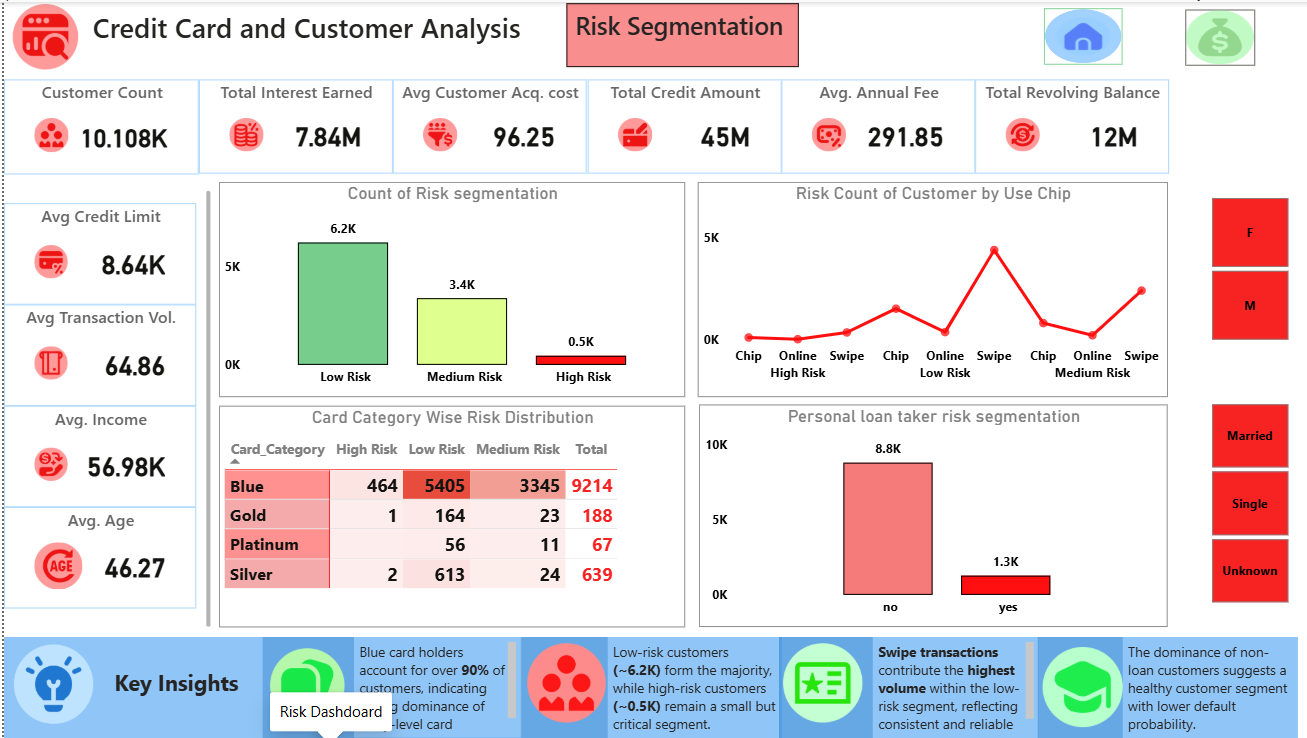

What the dashboard file says about the page in this screenshot:
{"tool":"powerbi","page":{"name":"Risk Dashdoard","canvas":[1280,720],"ordinal":1},"visuals":[{"type":"textbox","box":[950.1,0,330.2,61.1],"z":0,"group":"g2"},{"type":"textbox","box":[8.6,1.2,541.7,52.6],"z":0,"group":"g3"},{"type":"cardVisual","title":"Customer Count","fields":{"Data":["Count(credit_card.Client_Num)"]},"box":[0,75.8,190.8,92.9],"z":0,"group":"g5"},{"type":"shape","box":[179.8,184.6,40.4,426.8],"z":0},{"type":"textbox","box":[0,620.9,253.3,99],"z":0,"group":"g7"},{"type":"textbox","box":[342.2,620.9,163.6,98.5],"z":0,"group":"g8"},{"type":"textbox","box":[590.3,620.9,170.3,99],"z":0,"group":"g9"},{"type":"textbox","box":[849.1,620.9,162.5,99],"z":0,"group":"g10"},{"type":"textbox","box":[1094.1,620.9,171.6,99],"z":0,"group":"g11"},{"type":"cardVisual","title":"Total Interest Earned","fields":{"Data":["Sum(credit_card.Interest_Earned)"]},"box":[190.8,75.8,189.5,91.7],"z":1000,"group":"g5"},{"type":"columnChart","title":"Count of Risk segmentation ","fields":{"Category":["credit_card.risk_segmentation"],"Y":["CountNonNull(credit_card.risk_segmentation)"]},"box":[210.3,176.1,456.1,210.3],"z":1000,"group":"g1"},{"type":"pivotTable","title":"Card Category Wise Risk Distribution ","fields":{"Rows":["credit_card.Card_Category"],"Values":["CountNonNull(credit_card.risk_segmentation)"],"Columns":["credit_card.risk_segmentation"]},"box":[210.3,395,456.1,216.4],"z":1000},{"type":"image","box":[506,627,88,77.5],"z":1000,"group":"g9"},{"type":"image","box":[757.8,627,85,77.5],"z":1000,"group":"g10"},{"type":"image","box":[4.7,627.7,87.8,77.5],"z":1000,"group":"g7"},{"type":"image","box":[1011,630.4,87.6,78.3],"z":1000,"group":"g11"},{"type":"image","box":[253,632.1,87.7,72.9],"z":1000,"group":"g8"},{"type":"cardVisual","title":"Avg Customer Acq. cost","fields":{"Data":["Avg(credit_card.Customer_Acq_Cost)"]},"box":[380.3,75.8,189.5,91.7],"z":2000,"group":"g5"},{"type":"group","id":"g1","title":"Group 1","box":[210.3,176.1,456.1,210.3],"z":2000},{"type":"cardVisual","title":"Avg Credit Limit ","fields":{"Data":["Avg(credit_card.Credit_Limit)"]},"box":[0,196.9,188.3,99],"z":2000,"group":"g4"},{"type":"cardVisual","title":"Total Credit Amount ","fields":{"Data":["Sum(credit_card.Total_Trans_Amt)"]},"box":[571.1,75.8,189.5,91.7],"z":3000,"group":"g5"},{"type":"lineChart","title":"Risk Count of Customer by Use Chip","fields":{"Category":["credit_card.risk_segmentation","credit_card.Use Chip"],"Y":["CountNonNull(credit_card.Client_Num)"]},"box":[678.7,176.1,459.8,210.3],"z":3000},{"type":"cardVisual","title":"Total Revolving Balance","fields":{"Data":["Sum(credit_card.Total_Revolving_Bal)"]},"box":[950.1,75.8,189.5,91.7],"z":4000,"group":"g5"},{"type":"columnChart","title":"Personal loan taker risk segmentation ","fields":{"Category":["customer.Personal_loan"],"Y":["CountNonNull(credit_card.risk_segmentation)"]},"box":[679.9,393.8,458.6,217.7],"z":4000},{"type":"cardVisual","title":"Avg. Age","fields":{"Data":["Avg(customer.Customer_Age)"]},"box":[0,494,188.3,99],"z":4000,"group":"g4"},{"type":"slicer","fields":{"Values":["customer.Gender"]},"box":[1155.6,184.6,124.7,152.9],"z":5000},{"type":"cardVisual","title":"Avg Transaction Vol.","fields":{"Data":["Avg(credit_card.Total_Trans_Vol)"]},"box":[0,295.9,188.3,99],"z":6000,"group":"g4"},{"type":"slicer","fields":{"Values":["customer.Marital_Status"]},"box":[1155.6,386.4,124.7,207.9],"z":6000},{"type":"group","id":"g2","title":"Group 2","box":[950.1,0,330.2,61.1],"z":7000},{"type":"cardVisual","title":"Avg. Annual Fee","fields":{"Data":["Avg(credit_card.Annual_Fees)"]},"box":[760.6,75.8,189.5,91.7],"z":7000,"group":"g5"},{"type":"actionButton","box":[1017.4,6.1,77,55],"z":8000},{"type":"actionButton","box":[1155.6,7.3,68.5,55],"z":9000},{"type":"group","id":"g3","title":"Group 3","box":[8.6,1.2,542,66.2],"z":10000},{"type":"cardVisual","title":"Avg. Income","fields":{"Data":["Avg(customer.Income)"]},"box":[0,395,188.3,99],"z":10000,"group":"g4"},{"type":"group","id":"g4","title":"Group 4","box":[0,196.9,188.3,396.2],"z":11000},{"type":"group","id":"g5","title":"Group 5","box":[0,75.8,1139.7,92.9],"z":12000},{"type":"group","id":"g6","title":"Group 7","box":[0,620.9,1265.6,99],"z":13000},{"type":"textbox","box":[550.3,1.2,227.4,62.4],"z":14000},{"type":"group","id":"g7","title":"Group 6","box":[0,620.9,253,99],"z":14000,"group":"g6"},{"type":"group","id":"g8","title":"Group 6","box":[253,620.9,253,99],"z":15000,"group":"g6"},{"type":"group","id":"g9","title":"Group 6","box":[506,620.9,254.2,99],"z":16000,"group":"g6"},{"type":"group","id":"g10","title":"Group 6","box":[757.8,620.9,253,99],"z":17000,"group":"g6"},{"type":"group","id":"g11","title":"Group 6","box":[1011,620.9,254.6,99],"z":18000,"group":"g6"},{"type":"image","box":[8.6,1.2,63.7,66],"z":20002,"group":"g3"}]}

Visuals, with their boxes in screenshot pixels (x1, y1, x2, y2), scaled from the page's 1280x720 canvas onto the 1307x738 screenshot:
textbox: [970,0,1306,63]
textbox: [9,1,562,55]
"Customer Count" cardVisual: [0,78,195,173]
shape: [184,189,225,627]
textbox: [0,636,259,737]
textbox: [349,636,516,737]
textbox: [603,636,777,737]
textbox: [867,636,1033,737]
textbox: [1117,636,1292,737]
"Total Interest Earned" cardVisual: [195,78,388,172]
"Count of Risk segmentation " columnChart: [215,181,680,396]
"Card Category Wise Risk Distribution " pivotTable: [215,405,680,627]
image: [517,643,607,722]
image: [774,643,861,722]
image: [5,643,94,723]
image: [1032,646,1122,726]
image: [258,648,348,723]
"Avg Customer Acq. cost" cardVisual: [388,78,582,172]
"Group 1" group: [215,181,680,396]
"Avg Credit Limit " cardVisual: [0,202,192,303]
"Total Credit Amount " cardVisual: [583,78,777,172]
"Risk Count of Customer by Use Chip" lineChart: [693,181,1163,396]
"Total Revolving Balance" cardVisual: [970,78,1164,172]
"Personal loan taker risk segmentation " columnChart: [694,404,1163,627]
"Avg. Age" cardVisual: [0,506,192,608]
slicer - customer.Gender: [1180,189,1306,346]
"Avg Transaction Vol." cardVisual: [0,303,192,405]
slicer - customer.Marital_Status: [1180,396,1306,609]
"Group 2" group: [970,0,1306,63]
"Avg. Annual Fee" cardVisual: [777,78,970,172]
actionButton: [1039,6,1117,63]
actionButton: [1180,7,1250,64]
"Group 3" group: [9,1,562,69]
"Avg. Income" cardVisual: [0,405,192,506]
"Group 4" group: [0,202,192,608]
"Group 5" group: [0,78,1164,173]
"Group 7" group: [0,636,1292,737]
textbox: [562,1,794,65]
"Group 6" group: [0,636,258,737]
"Group 6" group: [258,636,517,737]
"Group 6" group: [517,636,776,737]
"Group 6" group: [774,636,1032,737]
"Group 6" group: [1032,636,1292,737]
image: [9,1,74,69]
